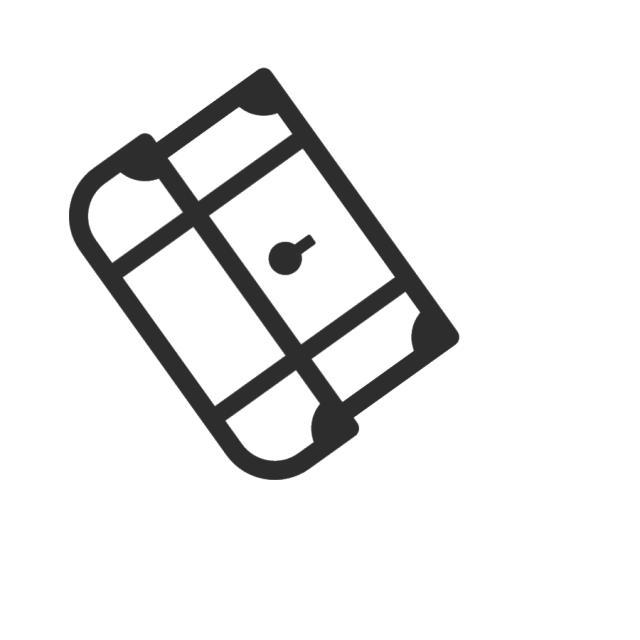treasure_box: (61, 62, 467, 489)
